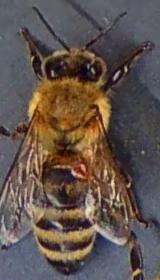varroa_mite: (58, 144, 96, 192)
